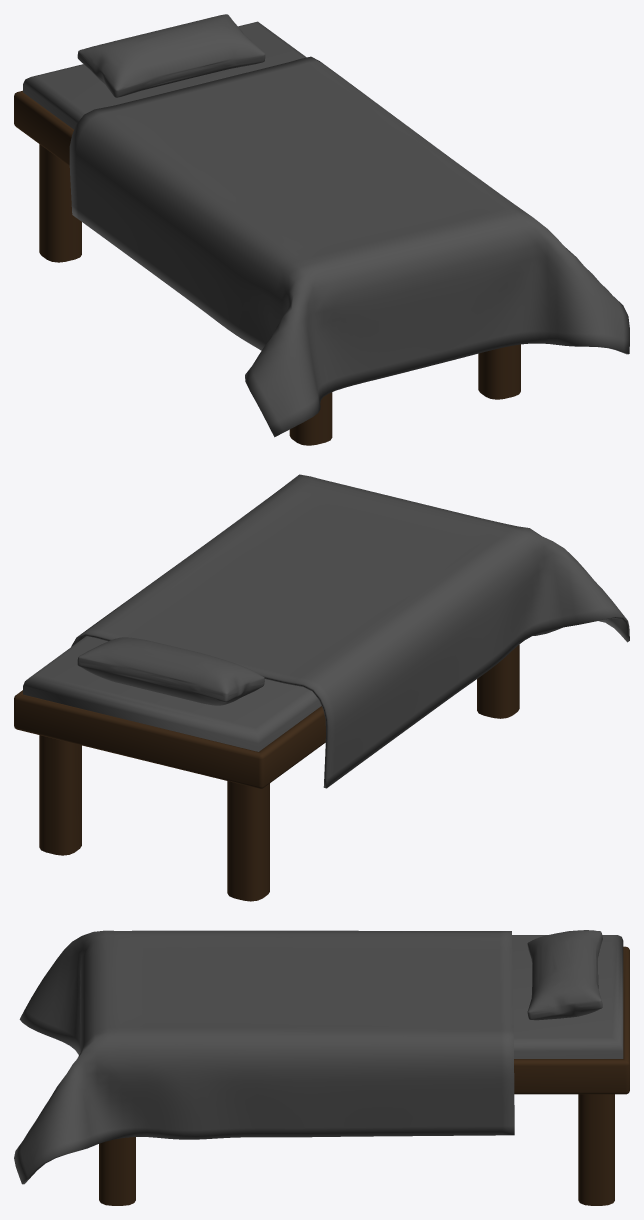
File: Bed.glb
3 views of the same model, one above another, from view 1: azimuth 30°, elevation 25°; view 2: azimuth 150°, elevation 25°; view 3: azimuth 270°, elevation 25° (orthographic). The views are drawn at different scales.
Parts seen in each view (by area): view 1: blanket, bed_frame, pillow, mattress; view 2: blanket, bed_frame, mattress, pillow; view 3: blanket, bed_frame, mattress, pillow.
Boxes of the visible parts, x1,y1,x2,y2 form: blanket: (69,56,629,437); bed_frame: (14,90,520,445); pillow: (77,14,265,97); mattress: (23,21,306,129); blanket: (71,474,629,788); bed_frame: (14,644,519,901); mattress: (23,636,321,751); pillow: (77,637,264,705); blanket: (14,930,514,1184); bed_frame: (99,946,629,1205); mattress: (512,935,623,1058); pillow: (527,930,602,1020).
Bounding box in the file's own units: 22.37 × 11.96 × 33.4.
